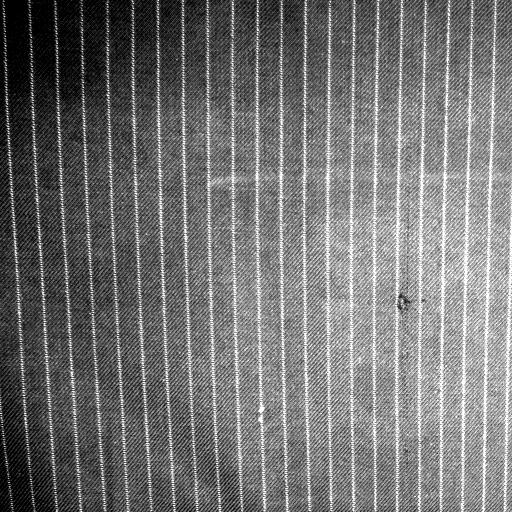fabric_hole: (391, 290, 415, 318)
